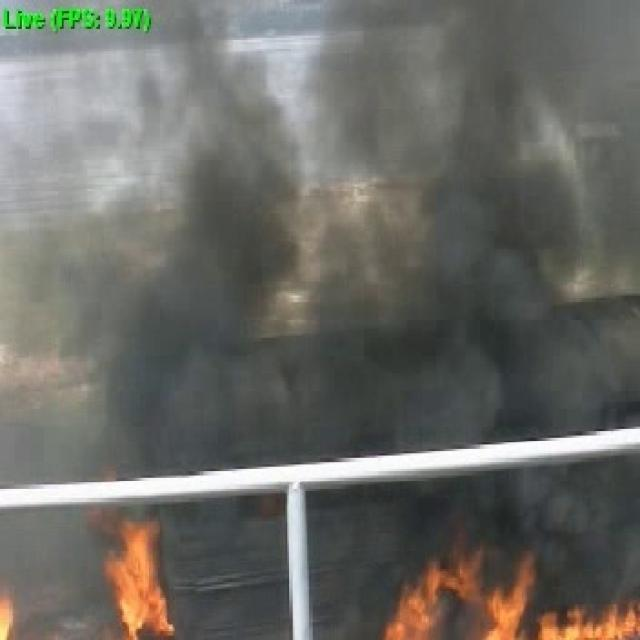Fire: (403, 565, 640, 640), (124, 544, 162, 625)
Smoke: (156, 163, 262, 470), (290, 356, 621, 430)
